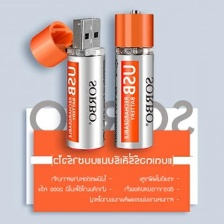battery: (61, 14, 110, 153), (112, 9, 156, 151)
